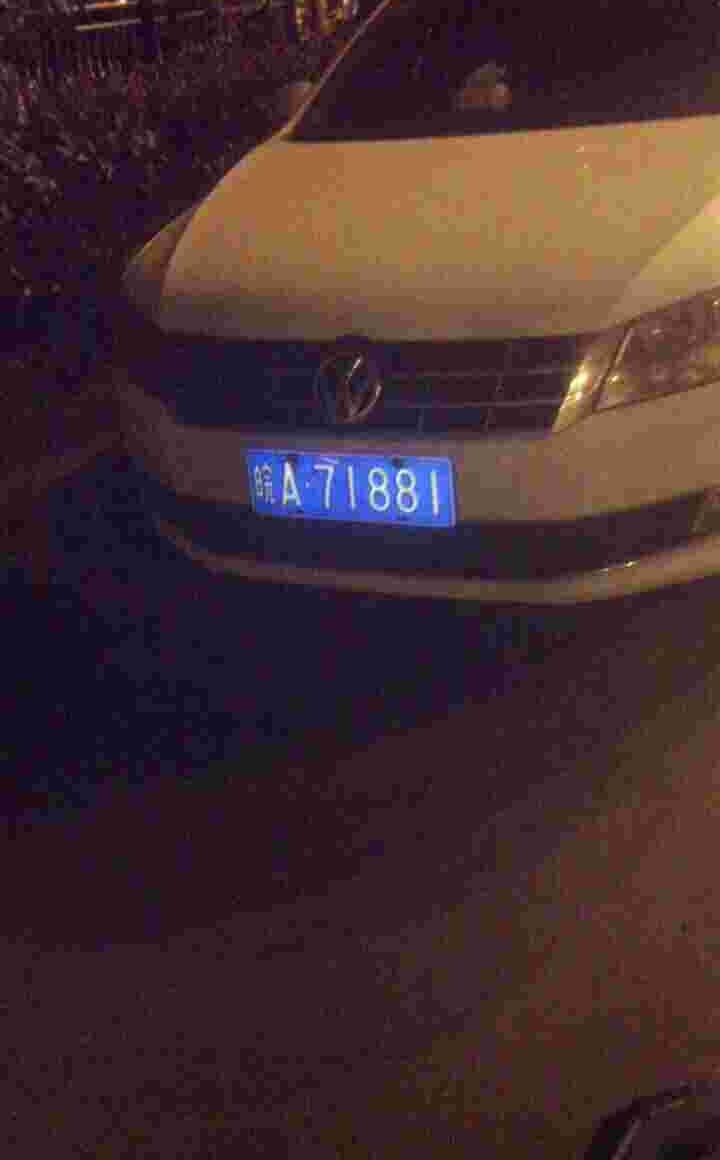license_plate: (253, 448, 458, 528)
